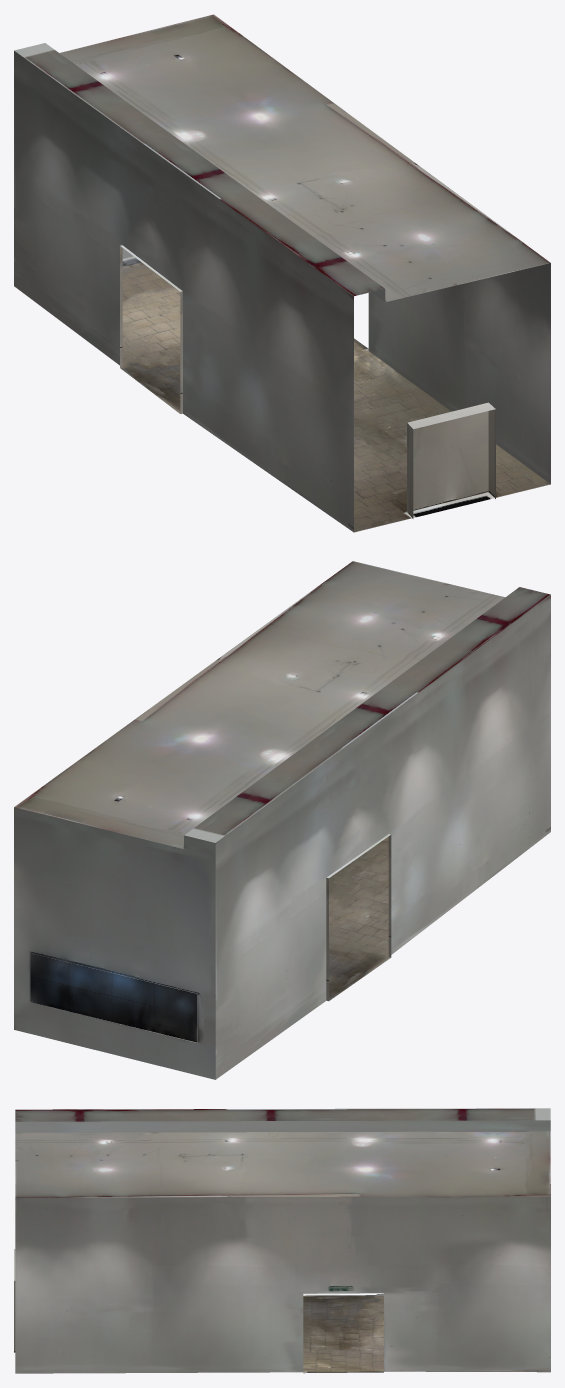
File: main-back-lp.fbx
3 renders of one model, top to bottom at view 1: azimuth 30°, elevation 25°; view 2: azimuth 150°, elevation 25°; view 3: azimuth 270°, elevation 25°, orthographic. The views are drawn at different scales.
Visible parts, largest first — view 1: main-back-lp; view 2: main-back-lp; view 3: main-back-lp.
Boxes of the visible parts, x1,y1,x2,y2 form: main-back-lp: [14, 14, 550, 532]; main-back-lp: [14, 561, 550, 1079]; main-back-lp: [14, 1108, 550, 1373].
Size of the model in its own units: 582 by 644 by 1659.
Materials: 1 (1 with a texture image).
